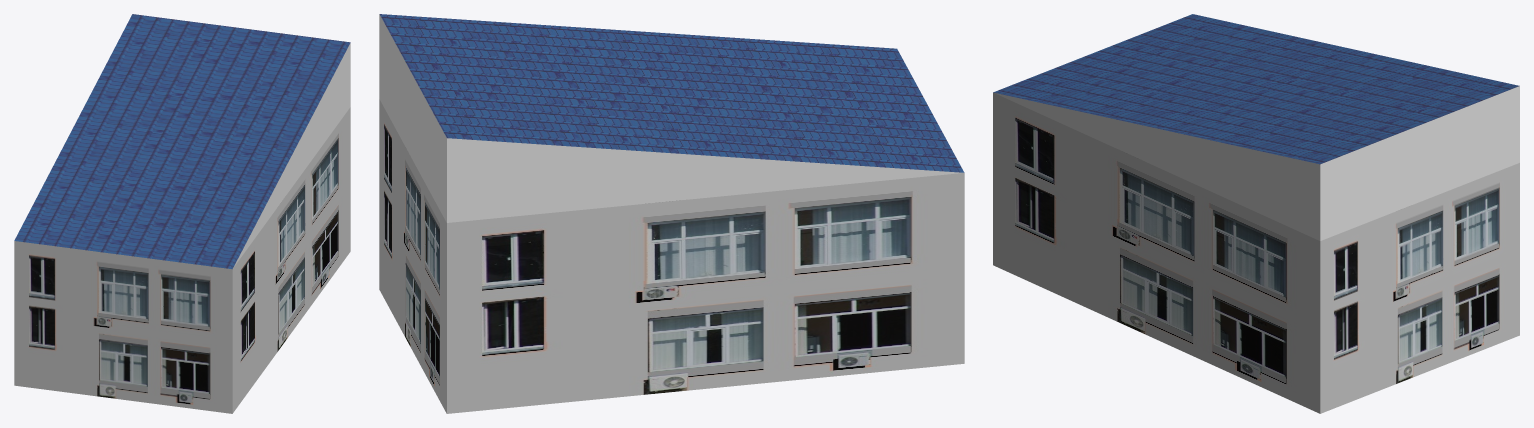
3 views of the same model, side by side, from view 1: azimuth 30°, elevation 25°; view 2: azimuth 150°, elevation 25°; view 3: azimuth 270°, elevation 25° (orthographic). The views are drawn at different scales.
Visible parts, largest first — view 1: CityEngineMaterial_10_m, CityEngineMaterial_9_m, CityEngineMaterial_3_m; view 2: CityEngineMaterial_9_m, CityEngineMaterial_10_m, CityEngineMaterial_3_m; view 3: CityEngineMaterial_9_m, CityEngineMaterial_10_m, CityEngineMaterial_3_m.
Boxes of the visible parts, x1,y1,x2,y2 form: CityEngineMaterial_10_m: (14,14,350,269); CityEngineMaterial_9_m: (14,107,350,413); CityEngineMaterial_3_m: (233,43,350,267); CityEngineMaterial_9_m: (379,99,964,413); CityEngineMaterial_10_m: (379,14,964,172); CityEngineMaterial_3_m: (379,14,963,222); CityEngineMaterial_9_m: (993,92,1519,413); CityEngineMaterial_10_m: (993,14,1519,164); CityEngineMaterial_3_m: (994,86,1519,240).
Bounding box in the file's own units: 27.62 × 14.15 × 27.07.
